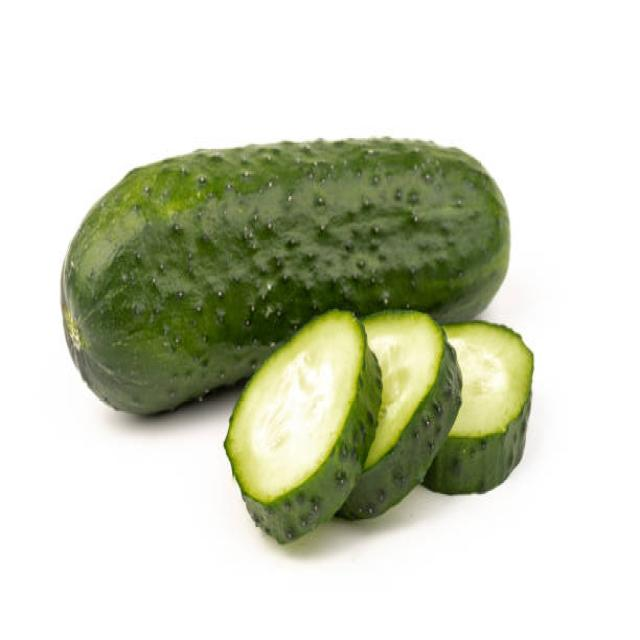cucumber: (62, 135, 512, 416)
